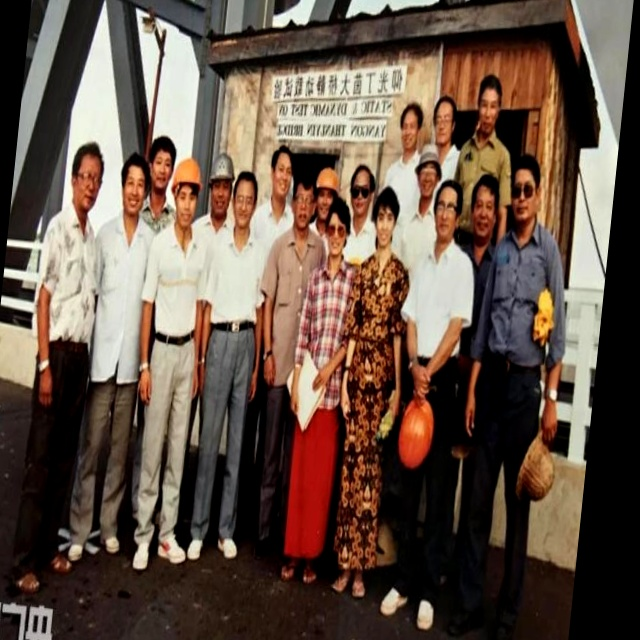Con_Casco: (167, 157, 205, 227), (204, 152, 237, 221)
Sin_Casco_Mascarrilla: (69, 140, 107, 216), (508, 153, 544, 223), (264, 143, 297, 209), (467, 174, 501, 238), (431, 179, 464, 243), (472, 72, 504, 137), (370, 183, 401, 248), (430, 93, 457, 147), (398, 99, 424, 150)
